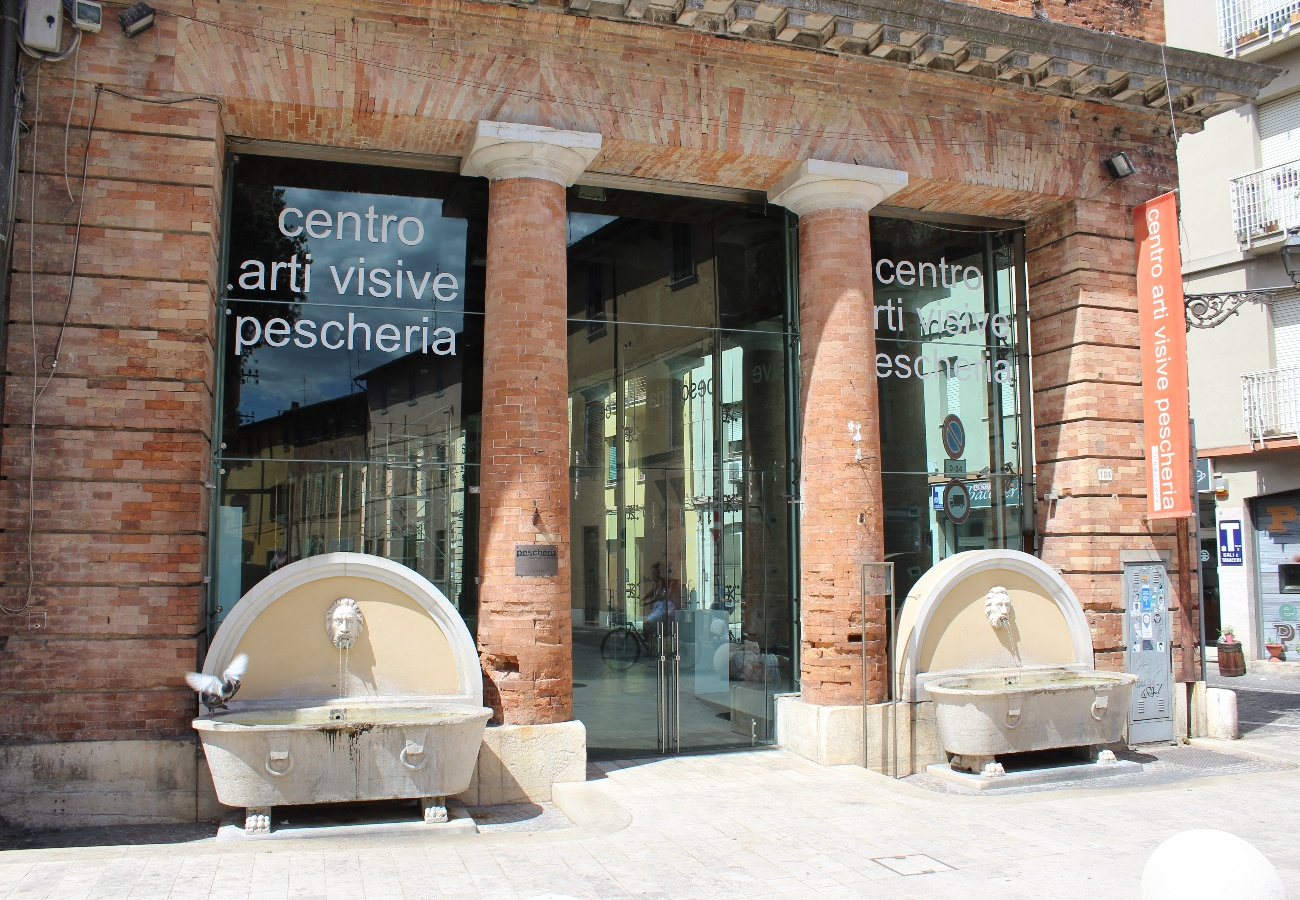Centro Arti Visive Pescheria: (4, 1, 1281, 855)
